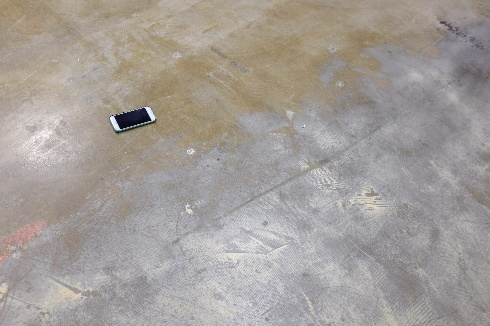phone: (108, 102, 157, 134)
